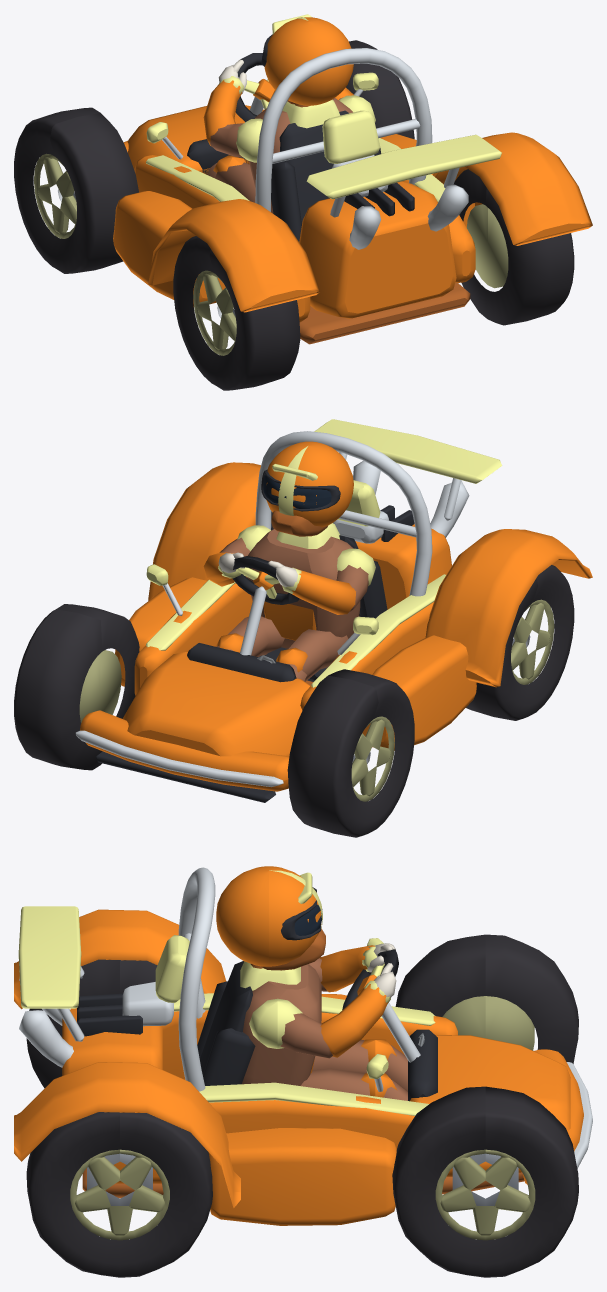
File: kart_4.glb
3 views of the same model, one above another, from view 1: azimuth 30°, elevation 25°; view 2: azimuth 150°, elevation 25°; view 3: azimuth 270°, elevation 25° (orthographic). The views are drawn at different scales.
Parts seen in each view (by area): view 1: bodyPaint, bodyFenders, WheelFL_tyre, WheelRL_tyre, WheelRR_tyre, bodyChrome, bodyPlastic, driverHelmet, driverArms, driverTorso, WheelFR_tyre, steeringWheel; view 2: bodyPaint, bodyFenders, WheelFL_tyre, WheelFR_tyre, bodyChrome, driverTorso, WheelRL_tyre, driverHelmet, bodyPlastic, driverArms, steeringWheel, driverVisor; view 3: bodyPaint, WheelFR_tyre, WheelRR_tyre, bodyFenders, WheelFL_tyre, bodyChrome, driverTorso, bodyPlastic, driverHelmet, driverArms, WheelRL_tyre, steeringWheel (+1 smaller).
Part boxes in pixels (<box>): bodyPaint: <box>113,72,501,322</box>; bodyFenders: <box>148,132,592,312</box>; WheelFL_tyre: <box>14,107,138,273</box>; WheelRL_tyre: <box>173,236,300,390</box>; WheelRR_tyre: <box>453,169,574,325</box>; bodyChrome: <box>162,48,468,249</box>; bodyPlastic: <box>187,110,470,344</box>; driverHelmet: <box>261,14,353,105</box>; driverArms: <box>203,59,375,162</box>; driverTorso: <box>207,98,352,213</box>; WheelFR_tyre: <box>346,40,414,139</box>; steeringWheel: <box>235,53,275,121</box>; bodyPaint: <box>80,419,501,791</box>; bodyFenders: <box>148,462,592,687</box>; WheelFL_tyre: <box>287,669,414,837</box>; WheelFR_tyre: <box>14,604,139,770</box>; bodyChrome: <box>75,431,469,786</box>; driverTorso: <box>216,523,360,681</box>; WheelRL_tyre: <box>466,565,574,720</box>; driverHelmet: <box>261,441,353,536</box>; bodyPlastic: <box>96,505,414,802</box>; driverArms: <box>203,525,375,614</box>; steeringWheel: <box>232,556,299,604</box>; driverVisor: <box>263,475,331,508</box>; bodyPaint: <box>18,906,583,1225</box>; WheelFR_tyre: <box>392,1086,578,1277</box>; WheelRR_tyre: <box>26,1112,212,1277</box>; bodyFenders: <box>14,909,240,1208</box>; WheelFL_tyre: <box>395,934,578,1063</box>; bodyChrome: <box>19,867,592,1168</box>; driverTorso: <box>240,961,407,1100</box>; bodyPlastic: <box>77,961,524,1198</box>; driverHelmet: <box>216,866,325,970</box>; driverArms: <box>249,943,396,1058</box>; WheelRL_tyre: <box>26,959,157,1088</box>; steeringWheel: <box>342,949,398,1009</box>.
Bounding box in the file's own units: 1.86 × 1.43 × 2.31.
